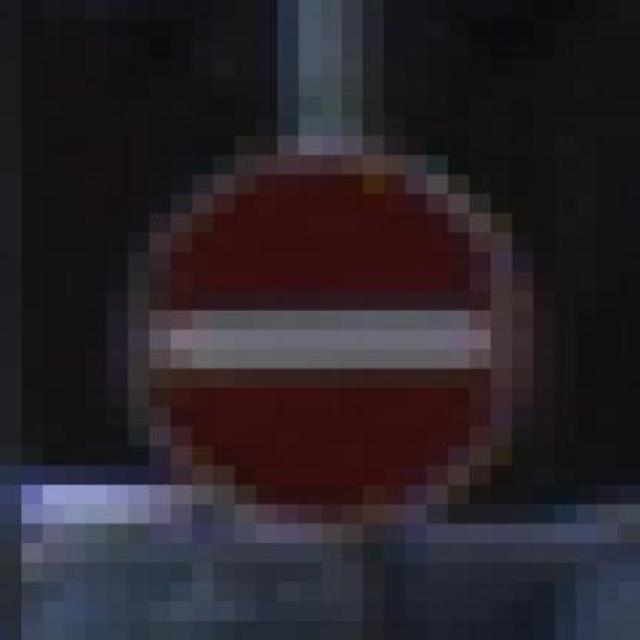No Entry: (86, 135, 554, 563)
